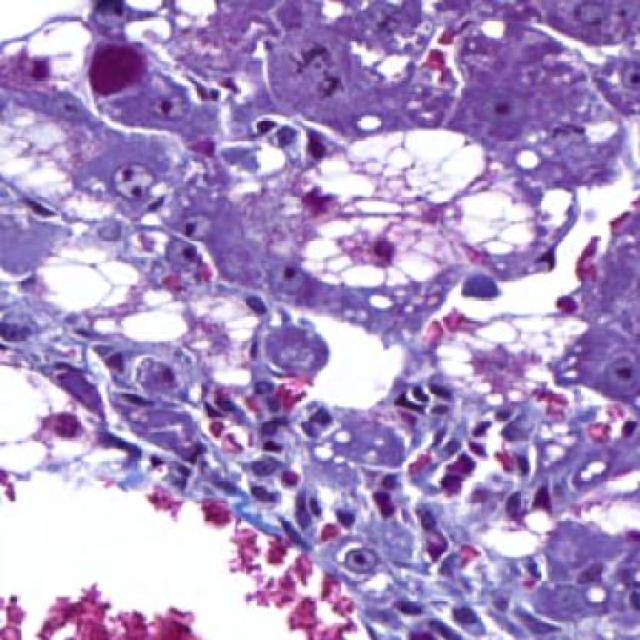ballooning: (297, 124, 538, 288), (5, 102, 90, 225)
